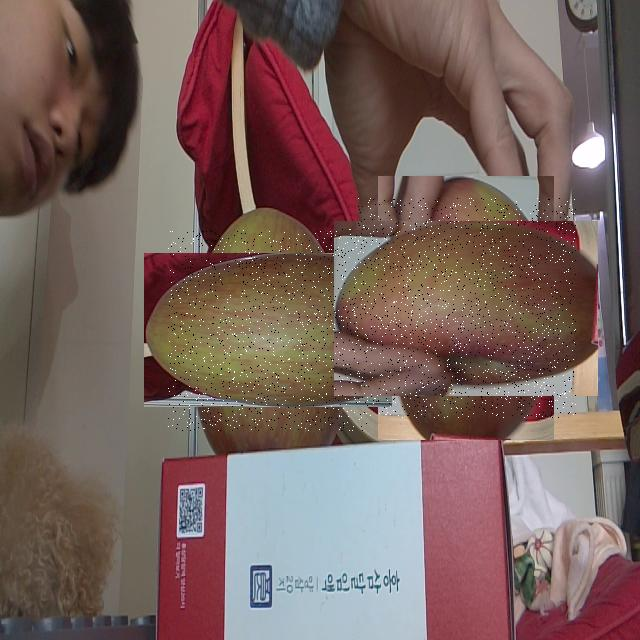apple: (356, 198, 576, 418), (168, 229, 369, 431)
